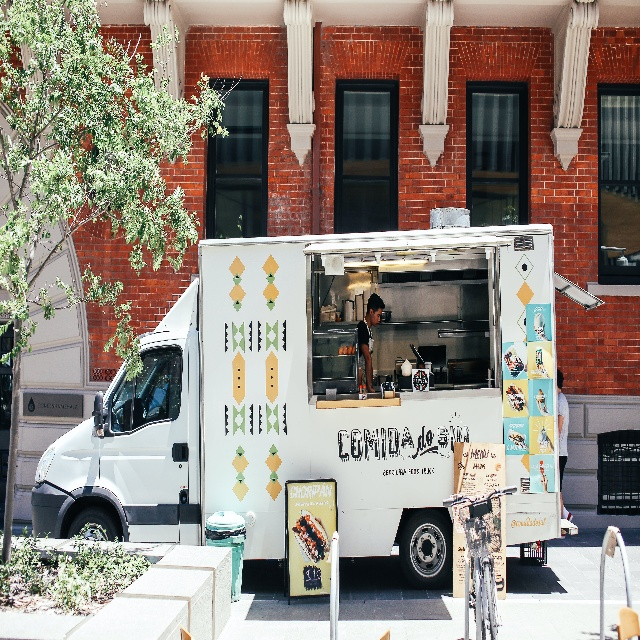Sin_guantes: (368, 388, 375, 392)
